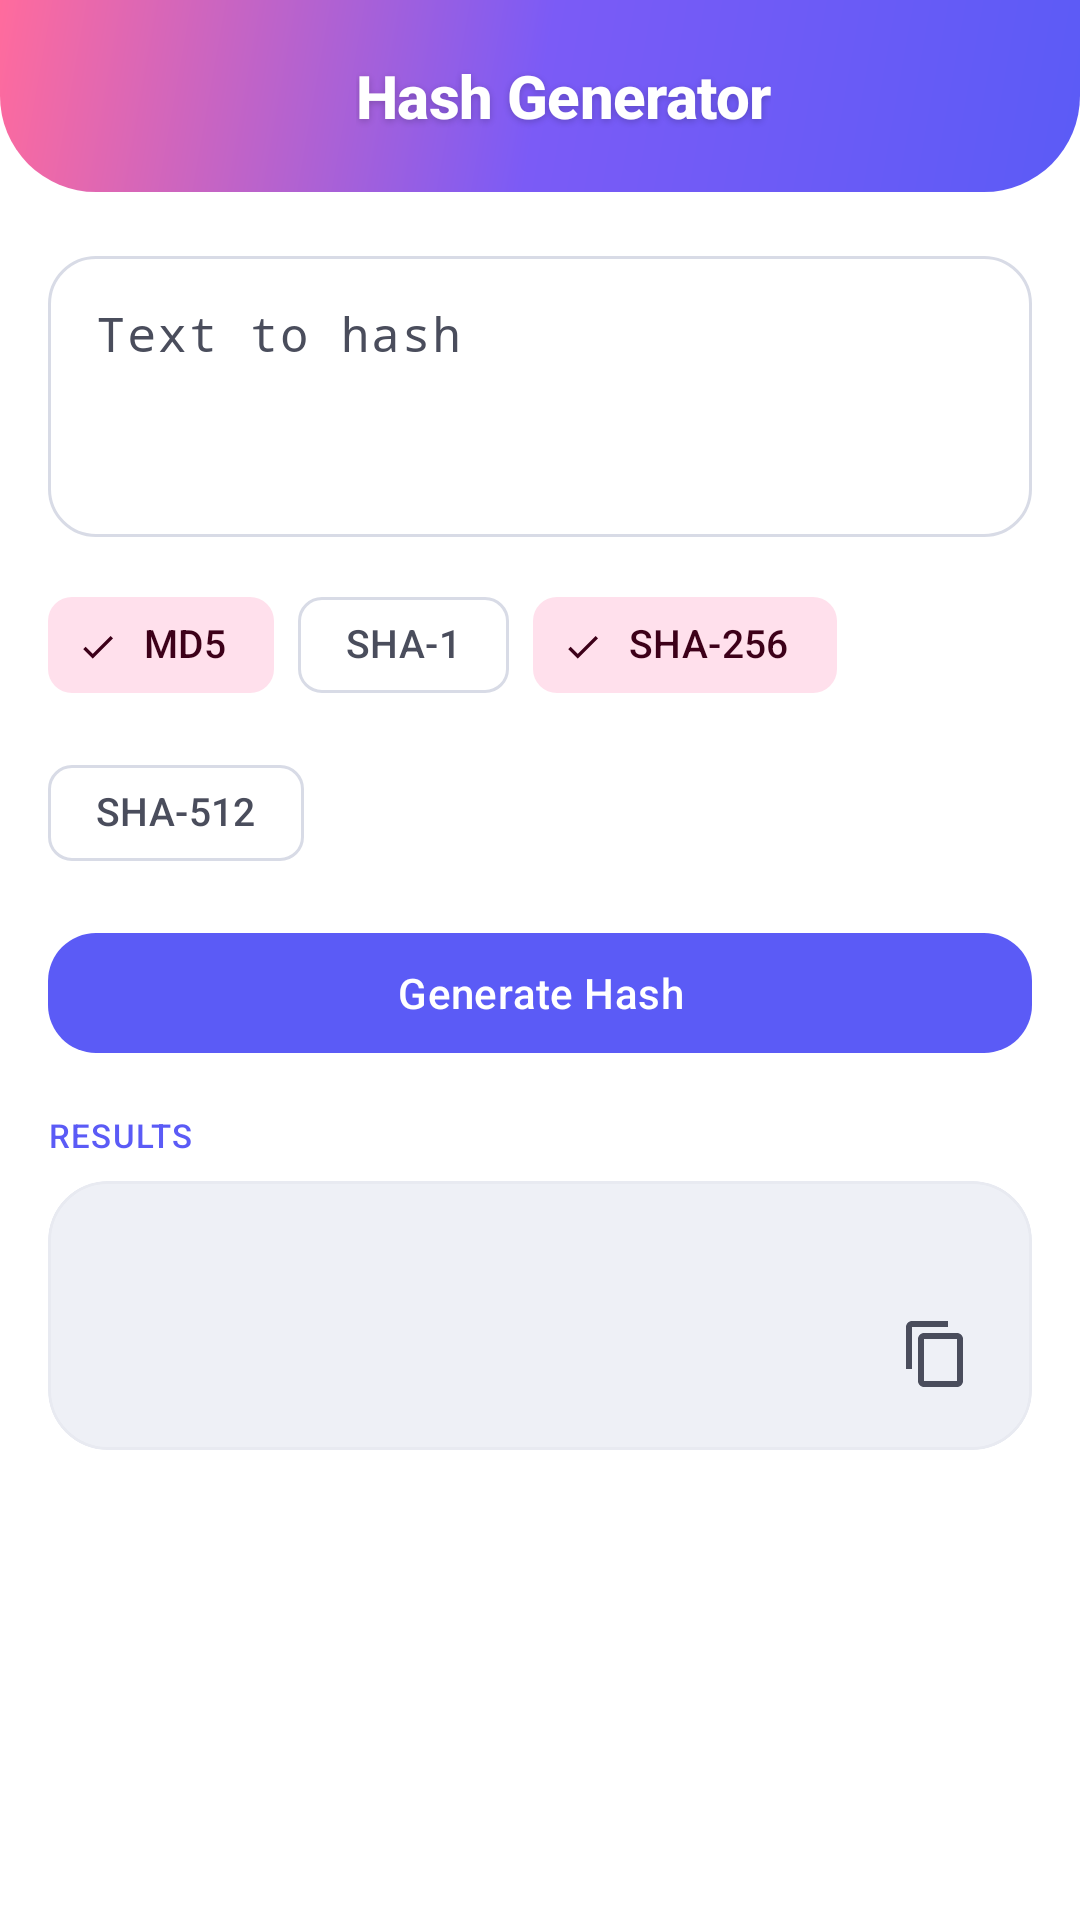

Screen size 1080x1920. Icon name, then its center in pixels as point (x, y):
Copy: point (934, 1354)
